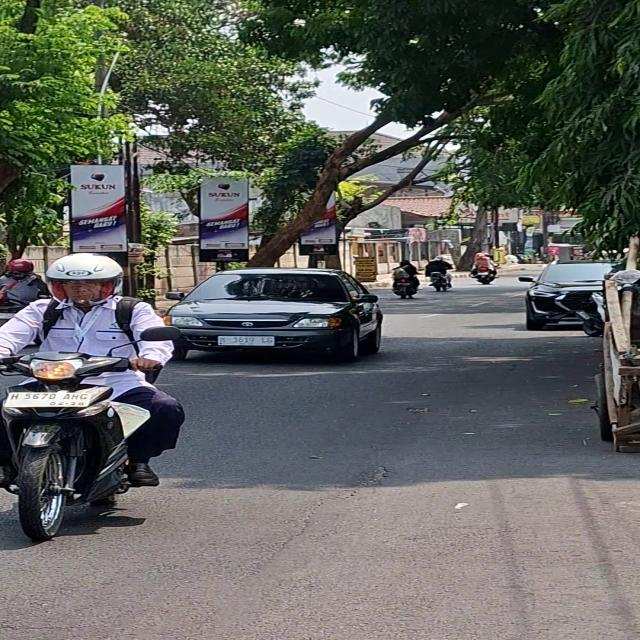WithHelmet: (0, 252, 184, 487), (0, 259, 46, 317), (424, 255, 455, 287), (471, 252, 502, 279)
